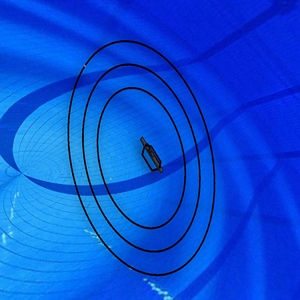circle: (65, 38, 218, 278)
submarine: (136, 137, 167, 177)
